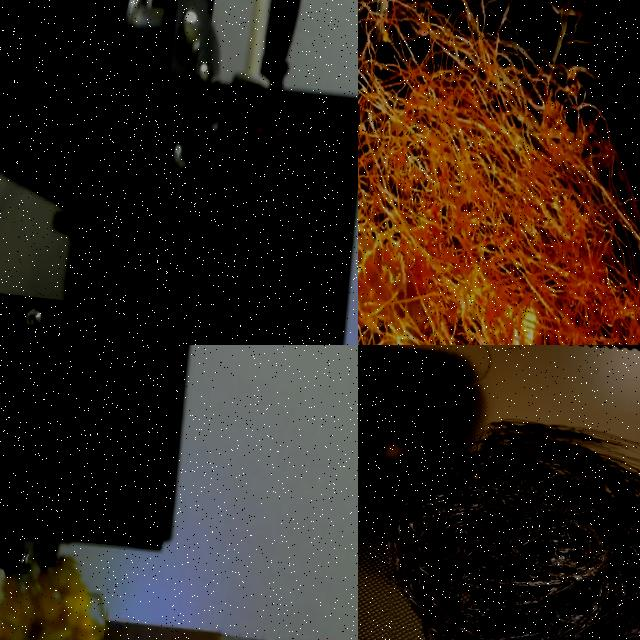spaghetti: (358, 0, 640, 345), (389, 427, 640, 640), (0, 562, 104, 640)
